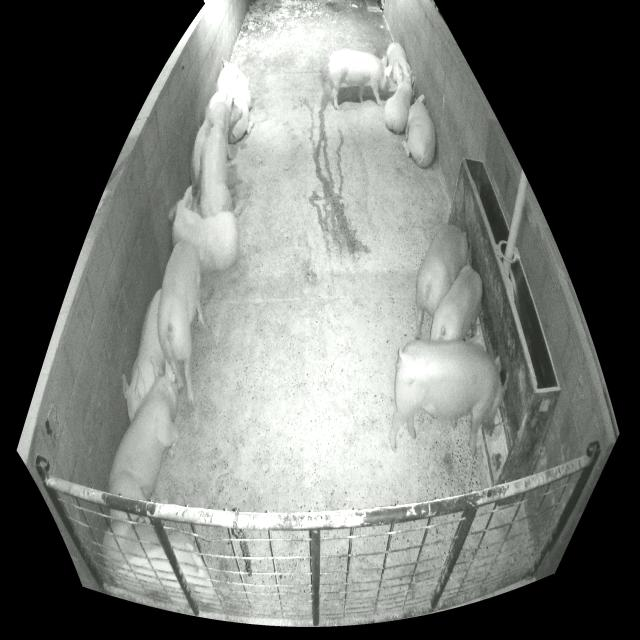pig: (389, 339, 509, 454), (108, 356, 183, 501), (103, 519, 215, 609), (158, 241, 206, 404), (168, 185, 238, 272), (416, 225, 467, 339), (122, 288, 165, 422), (190, 91, 242, 187), (430, 265, 482, 341), (329, 49, 392, 110), (196, 125, 233, 217), (215, 58, 253, 143), (397, 95, 436, 169), (384, 72, 414, 133), (384, 42, 411, 86), (204, 91, 226, 121)
